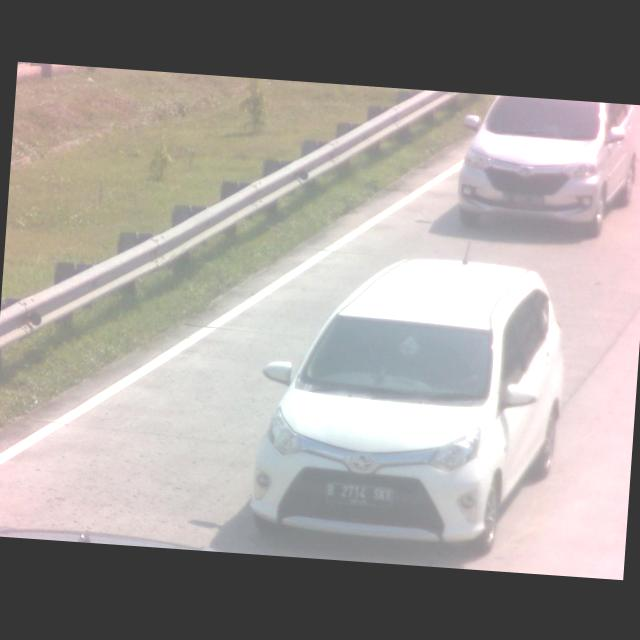plate: (321, 480, 395, 508)
